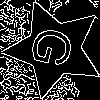G: (29, 24, 84, 74)
